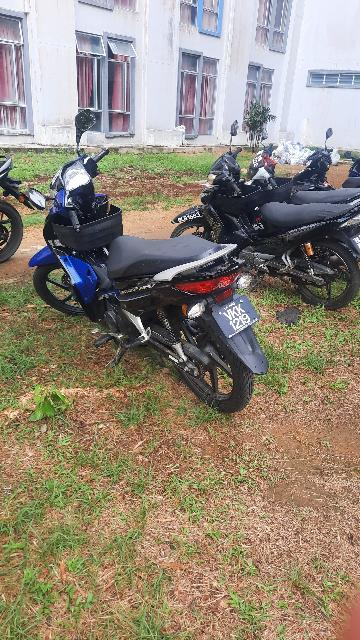License_Plate: (212, 292, 275, 340), (174, 208, 206, 227)
motorcycle: (30, 110, 279, 417), (171, 118, 360, 308)
